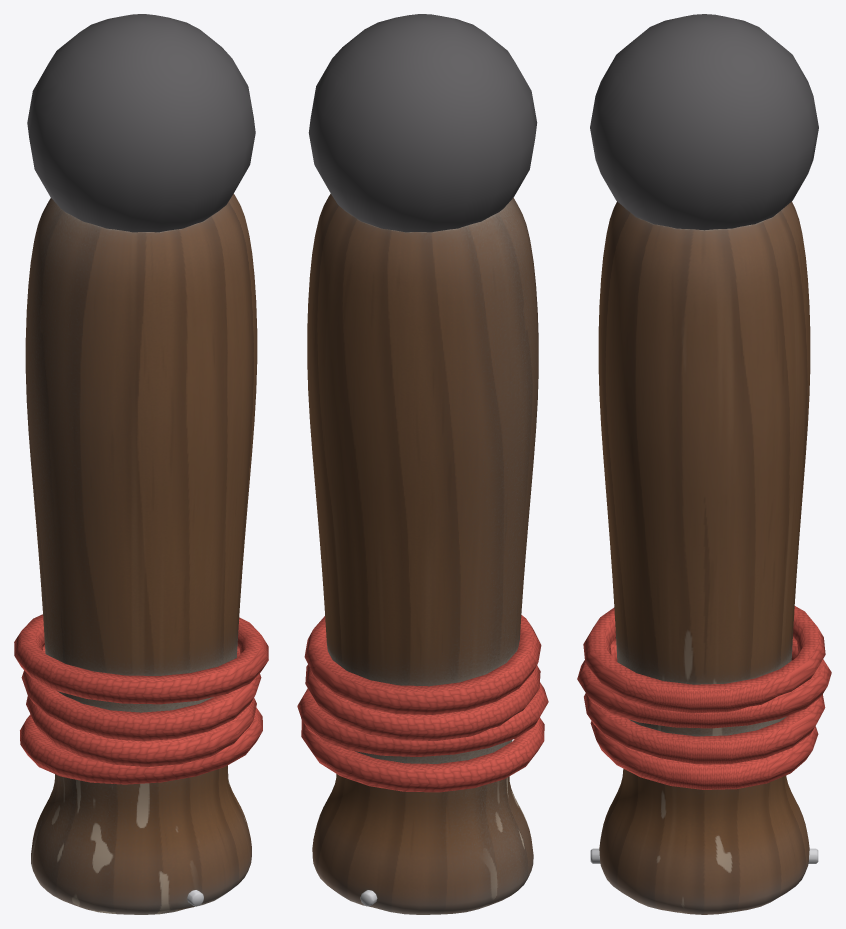
Rendered from LowerLeg_L.glb.
3 views of the same model, side by side, from view 1: azimuth 30°, elevation 25°; view 2: azimuth 150°, elevation 25°; view 3: azimuth 270°, elevation 25° (orthographic).
Visible parts, largest first — view 1: LowerLeg_L, LowerLeg_L_Ball, LowerLeg_L_Wrap; view 2: LowerLeg_L, LowerLeg_L_Ball, LowerLeg_L_Wrap; view 3: LowerLeg_L, LowerLeg_L_Ball, LowerLeg_L_Wrap.
Boxes of the visible parts, x1=… form: LowerLeg_L: x1=25, y1=194, x2=257, y2=914; LowerLeg_L_Ball: x1=27, y1=14, x2=255, y2=232; LowerLeg_L_Wrap: x1=14, y1=614, x2=268, y2=784; LowerLeg_L: x1=307, y1=193, x2=538, y2=914; LowerLeg_L_Ball: x1=308, y1=14, x2=537, y2=232; LowerLeg_L_Wrap: x1=297, y1=615, x2=548, y2=792; LowerLeg_L: x1=598, y1=201, x2=810, y2=914; LowerLeg_L_Ball: x1=590, y1=14, x2=818, y2=230; LowerLeg_L_Wrap: x1=577, y1=606, x2=831, y2=789.
Bounding box in the file's own units: 0.1248 × 0.4673 × 0.1267.
4 materials, 2 textured.
